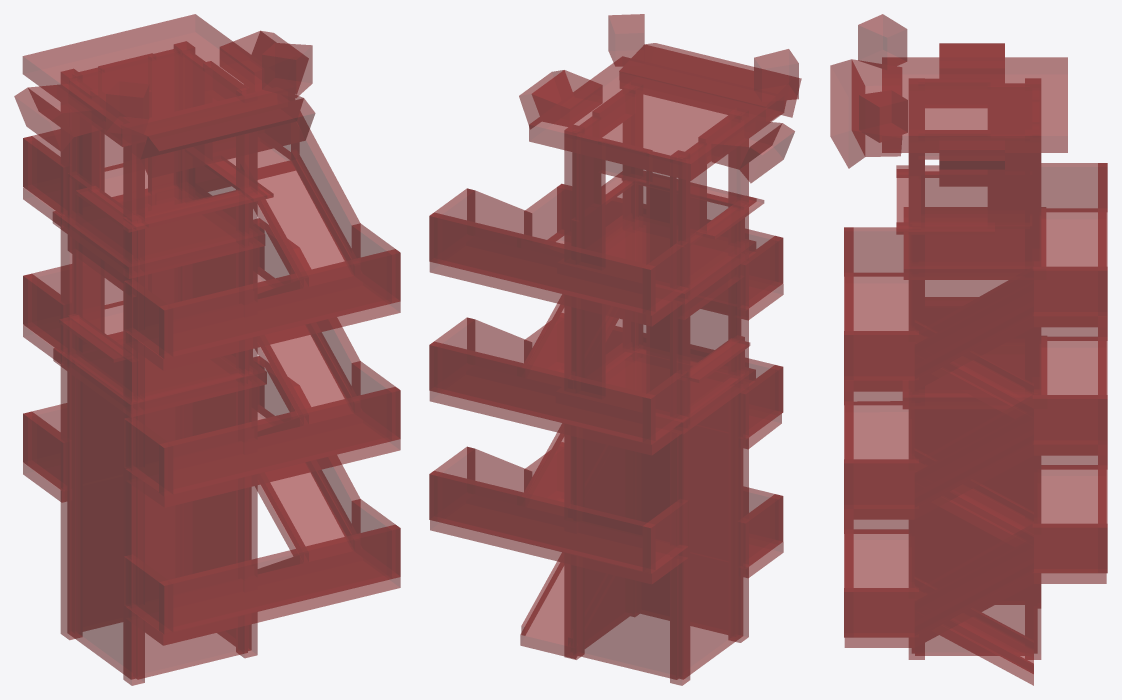
The model's file is SM_Bld_Tower_01_Collision.fbx.
3 views of the same model, side by side, from view 1: azimuth 30°, elevation 25°; view 2: azimuth 150°, elevation 25°; view 3: azimuth 270°, elevation 25° (orthographic). The views are drawn at different scales.
Parts seen in each view (by area): view 1: SM_Bld_Tower_01_Collision; view 2: SM_Bld_Tower_01_Collision; view 3: SM_Bld_Tower_01_Collision.
Boxes of the visible parts, box(x1,y1,x2,y2) form: SM_Bld_Tower_01_Collision: box(14, 14, 400, 685); SM_Bld_Tower_01_Collision: box(429, 14, 801, 685); SM_Bld_Tower_01_Collision: box(830, 14, 1107, 685).
Bounding box in the file's own units: 686 × 1341 × 587.
